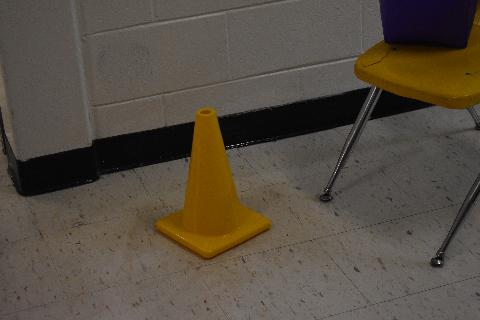cone: (154, 108, 271, 258)
cube: (380, 0, 479, 50)
